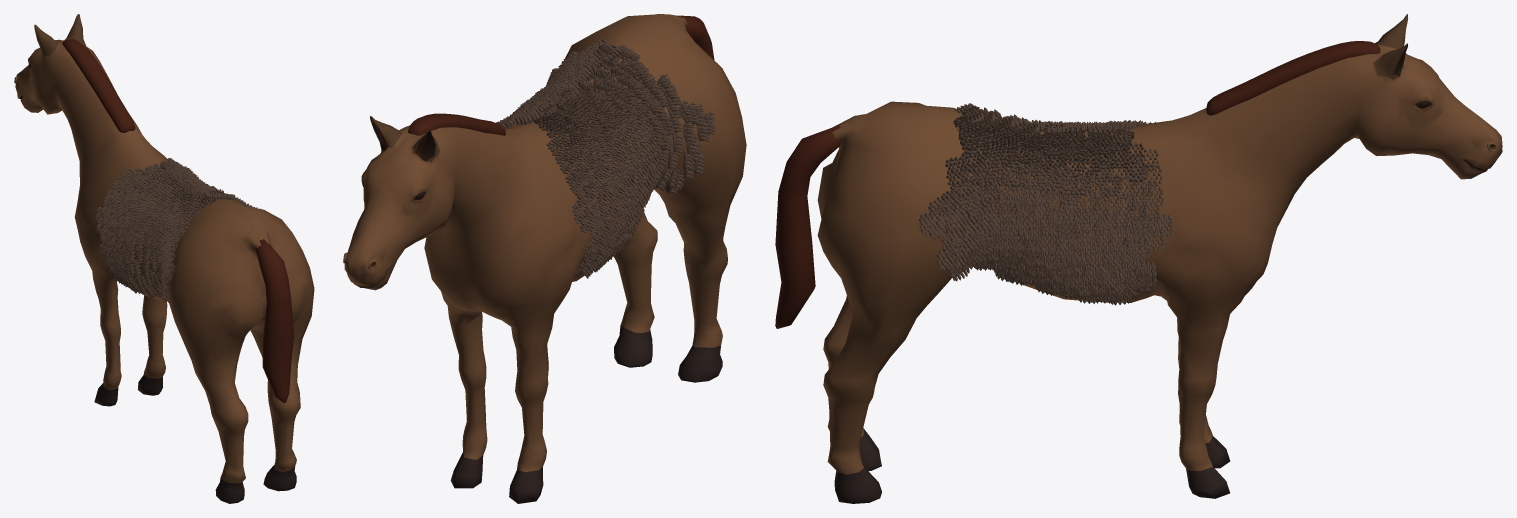
The model's file is horse1.fbx.
The picture shows the model from 3 angles, left to right: view 1: azimuth 30°, elevation 25°; view 2: azimuth 150°, elevation 25°; view 3: azimuth 270°, elevation 25°; orthographic projection. The views are drawn at different scales.
Visible parts, largest first — view 1: Horse.v2021; view 2: Horse.v2021; view 3: Horse.v2021.
Part boxes in pixels (x1,y1,x2,y2): Horse.v2021: (14,14,314,503); Horse.v2021: (343,14,746,503); Horse.v2021: (775,14,1502,503).
Size of the model in its own units: 83.26 by 201 by 294.
